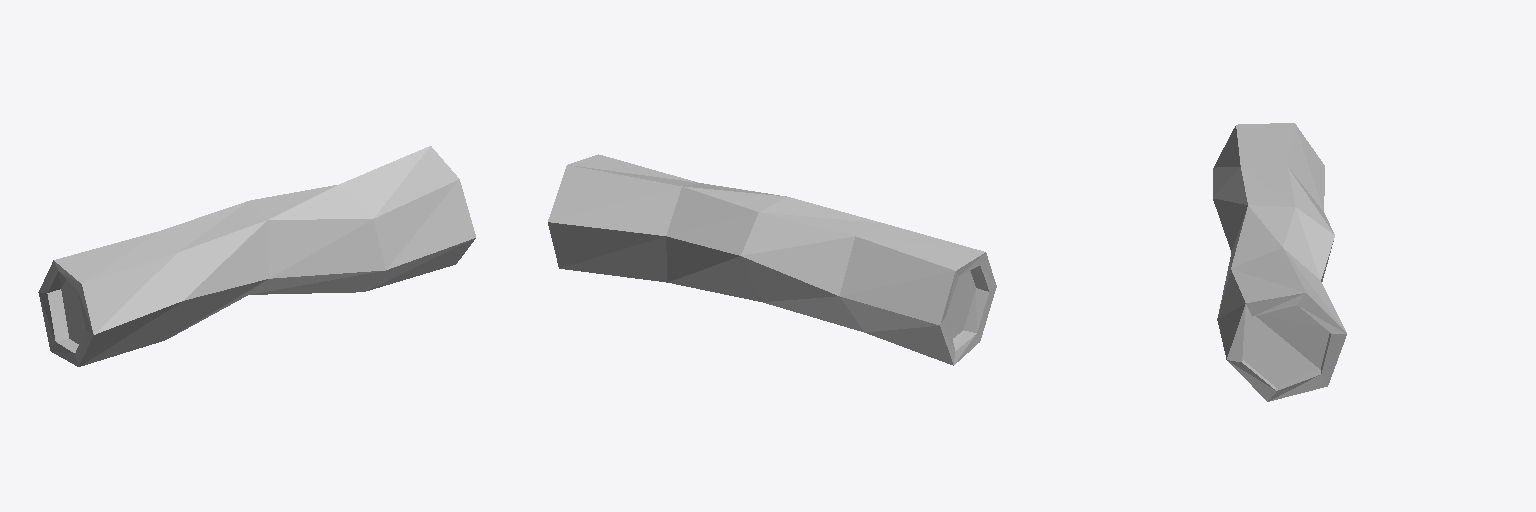
The model's file is Log4.obj.
The picture shows the model from 3 angles: view 1: azimuth 30°, elevation 25°; view 2: azimuth 150°, elevation 25°; view 3: azimuth 270°, elevation 25°; orthographic projection.
Visible parts, largest first — view 1: Log_1_Cylinder.002; view 2: Log_1_Cylinder.002; view 3: Log_1_Cylinder.002.
Boxes of the visible parts, box(x1,y1,x2,y2) form: Log_1_Cylinder.002: box(38, 146, 475, 366); Log_1_Cylinder.002: box(548, 154, 996, 365); Log_1_Cylinder.002: box(1213, 123, 1346, 401).
Bounding box in the file's own units: 7.31 × 1.96 × 2.17.